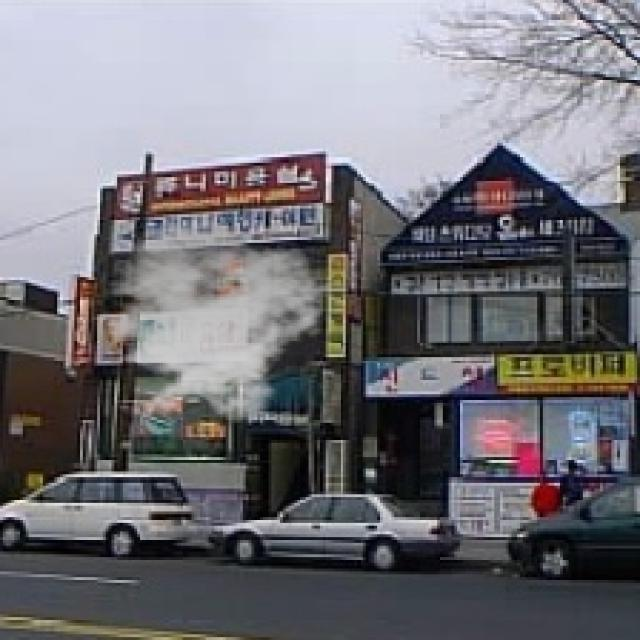smoke: (77, 217, 334, 426)
